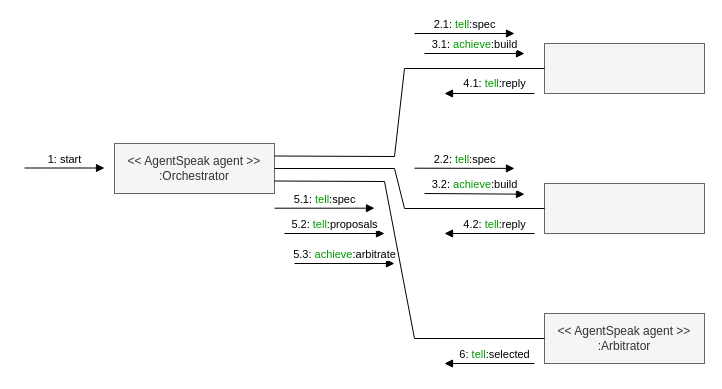
The diagram is 722 pixels wide and 389 high, and some of its shapes have lost their labels. Each missing label, with the box of its shape:
<< AgentSpeak agent >> :NaiveRequirementManager: (544, 182, 704, 234)
<< AgentSpeak agent >> :StubRequirementManager: (544, 42, 704, 94)
